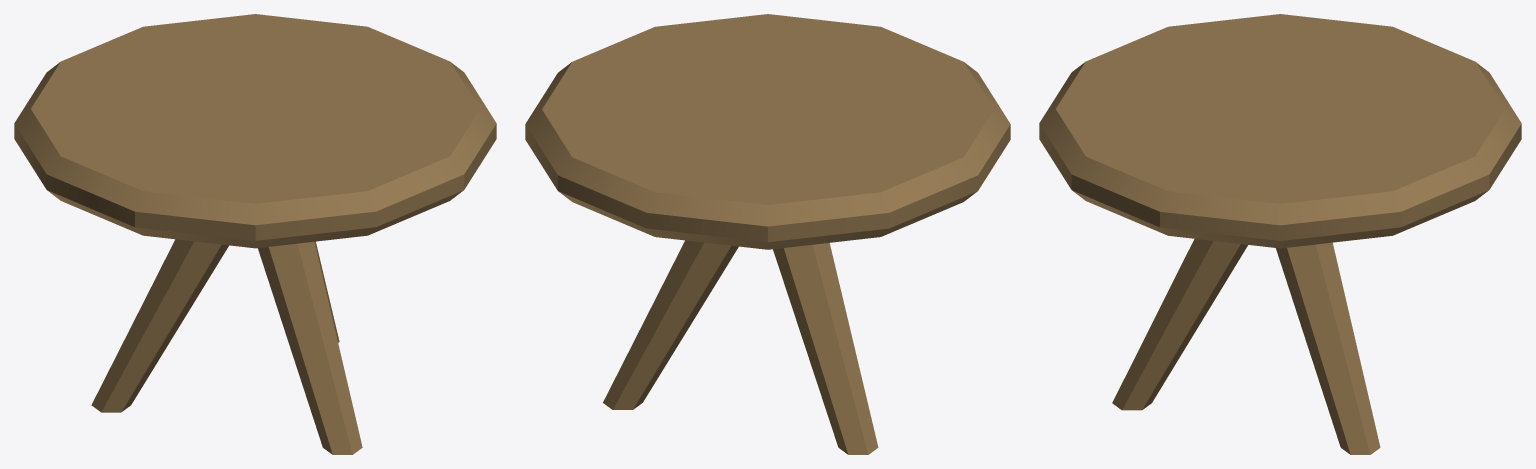
Rendered from Little Table.fbx.
3 views of the same model, side by side, from view 1: azimuth 30°, elevation 25°; view 2: azimuth 150°, elevation 25°; view 3: azimuth 270°, elevation 25° (orthographic).
Visible parts, largest first — view 1: Cylinder.001; view 2: Cylinder.001; view 3: Cylinder.001.
Part boxes in pixels (x1=…): Cylinder.001: x1=14, y1=14, x2=496, y2=454; Cylinder.001: x1=525, y1=14, x2=1010, y2=454; Cylinder.001: x1=1039, y1=14, x2=1521, y2=454.
Bounding box in the file's own units: 56.27 × 37.03 × 56.27.
